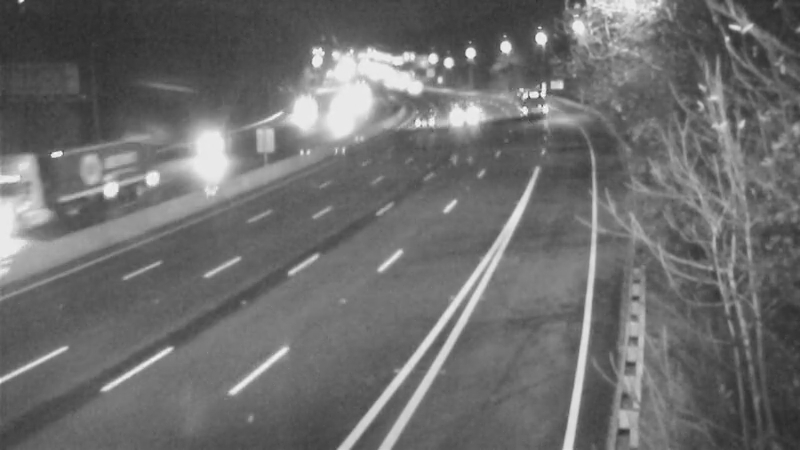vehicle: (1, 173, 72, 253), (501, 75, 551, 125), (443, 88, 493, 138), (395, 95, 445, 145), (178, 119, 228, 169), (316, 94, 366, 144), (280, 84, 330, 134)
